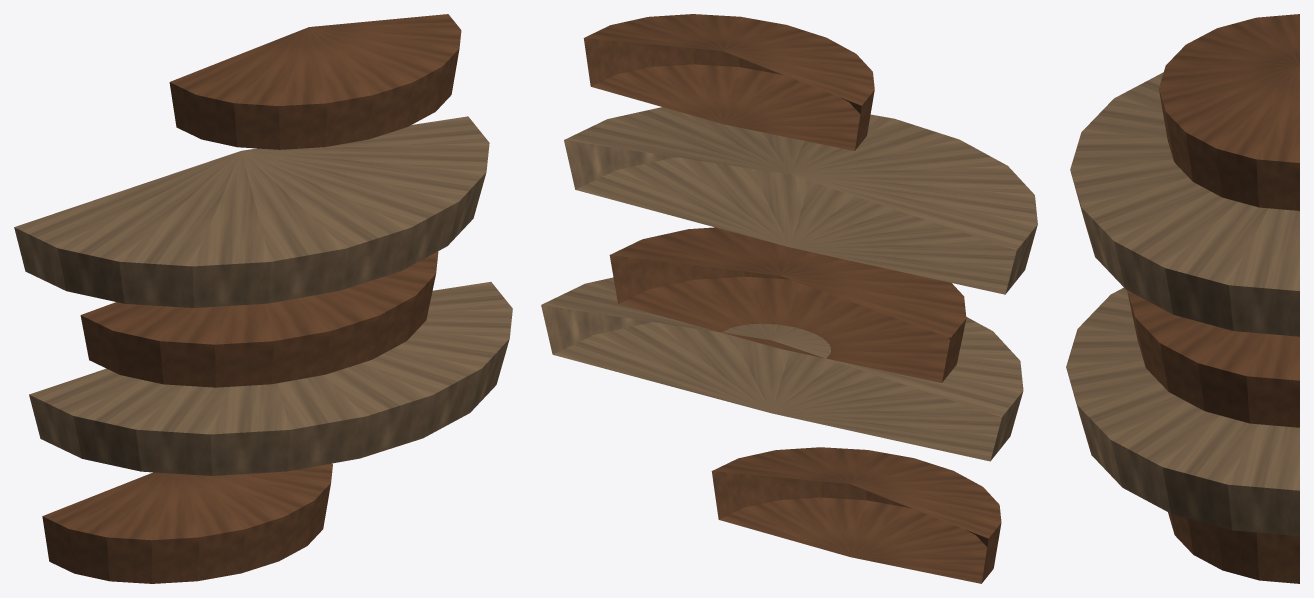
File: Mushroom_Bracket_1.gltf
The picture shows the model from 3 angles, left to right: view 1: azimuth 30°, elevation 25°; view 2: azimuth 150°, elevation 25°; view 3: azimuth 270°, elevation 25°; orthographic projection. The views are drawn at different scales.
Visible parts, largest first — view 1: Mushroom_Bracket_1; view 2: Mushroom_Bracket_1; view 3: Mushroom_Bracket_1.
Part boxes in pixels (bbox=[...]): Mushroom_Bracket_1: bbox=[14, 14, 512, 583]; Mushroom_Bracket_1: bbox=[541, 14, 1037, 583]; Mushroom_Bracket_1: bbox=[1066, 14, 1299, 583].
Size of the model in its own units: 0.4768 by 0.4549 by 0.1848.
Materials: 2 (2 with a texture image).
